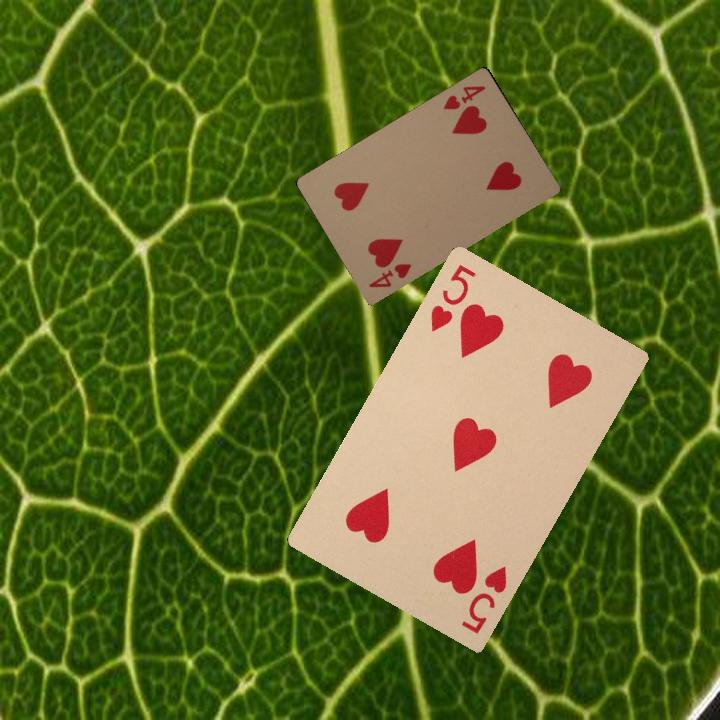4h: (364, 259, 414, 290), (439, 81, 488, 112)
5h: (457, 561, 510, 637), (426, 260, 479, 335)
